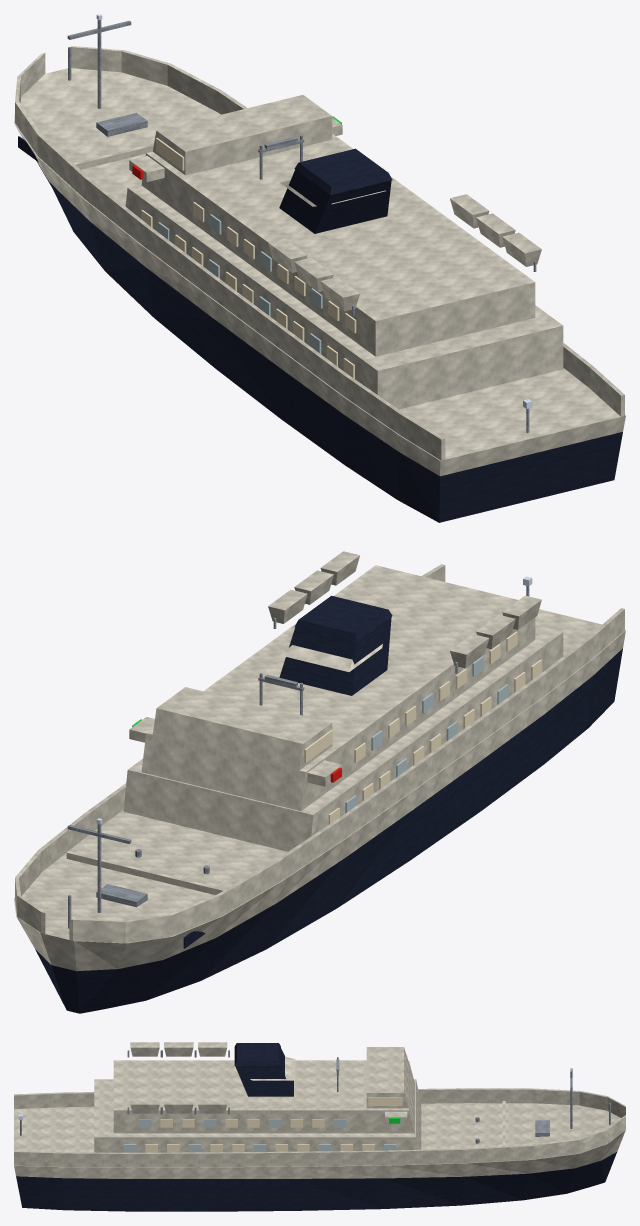
Rendered from cruise_ship.fbx.
3 views of the same model, one above another, from view 1: azimuth 30°, elevation 25°; view 2: azimuth 150°, elevation 25°; view 3: azimuth 270°, elevation 25° (orthographic). The views are drawn at different scales.
Visible parts, largest first — view 1: cruise_ship; view 2: cruise_ship; view 3: cruise_ship.
Part boxes in pixels (<box>): cruise_ship: <box>14,14,625,522</box>; cruise_ship: <box>14,551,625,1013</box>; cruise_ship: <box>14,1042,625,1211</box>.
Size of the model in its own units: 620 by 588 by 2540.
